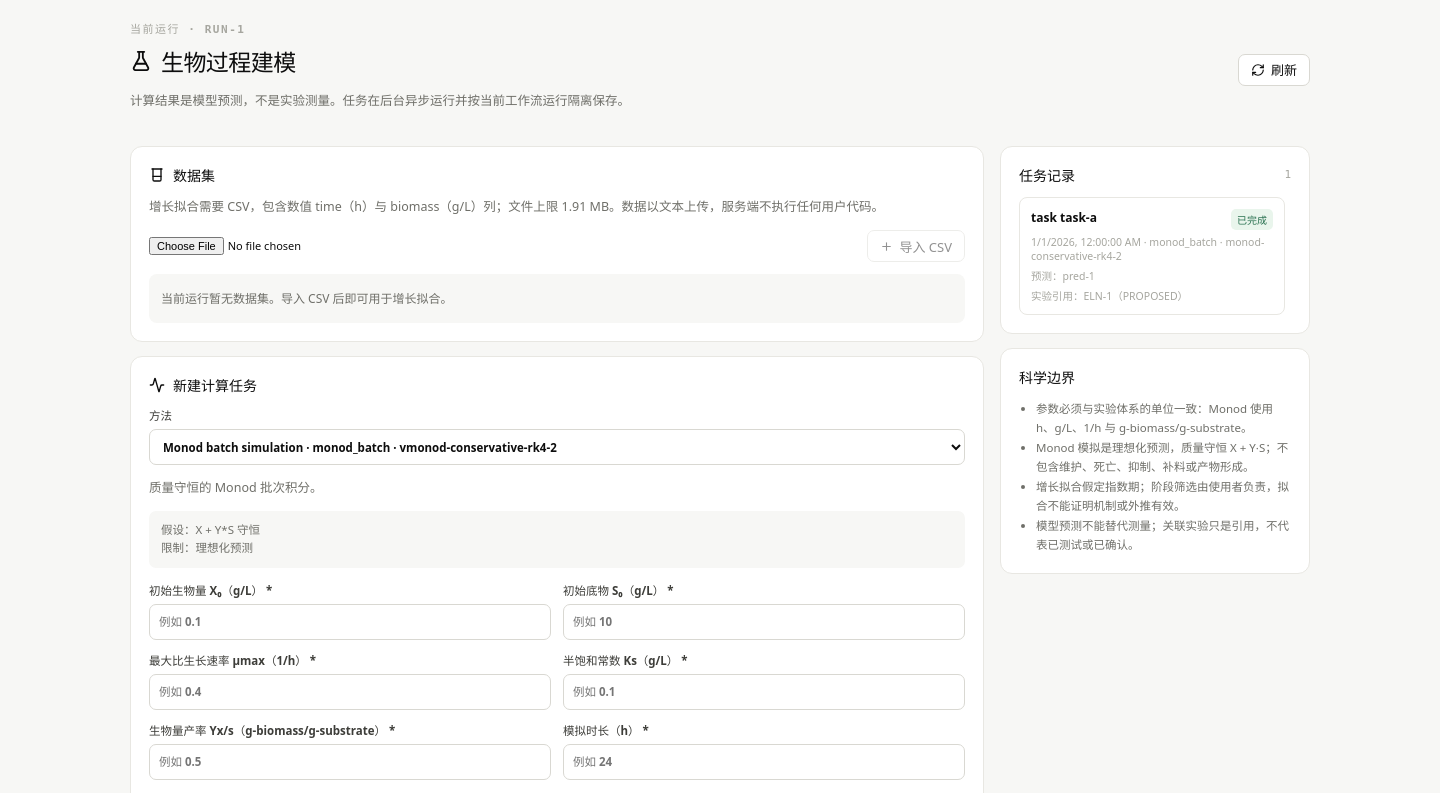
Test case: ModelingWorkspace lifecycle regressions › resets registration, experiment and result when a new task is submitted
Click the button that starts with "task task-a": (1064, 217) [1019, 197, 1285, 315]
(page scrolled)
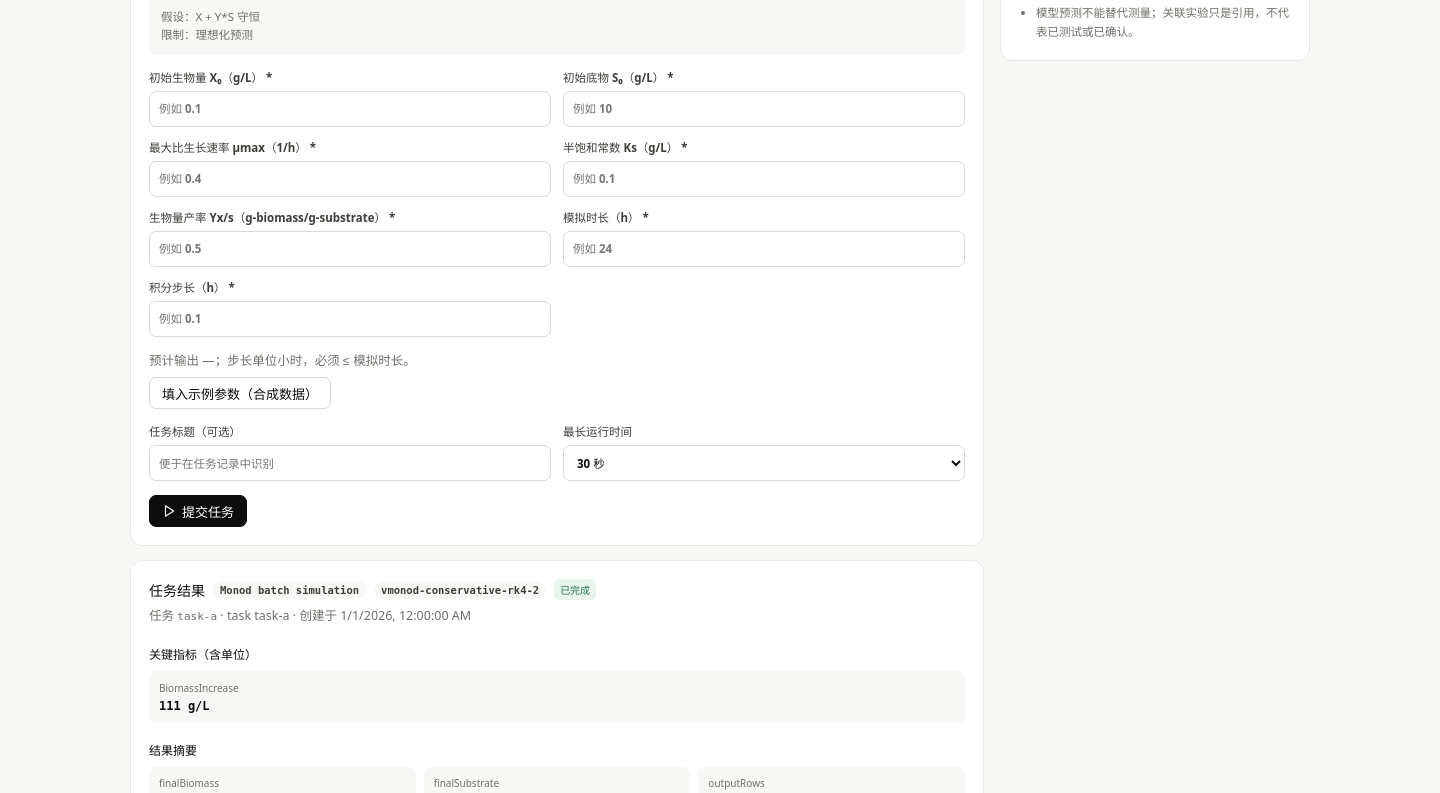
Click the button "填入示例参数（合成数据）": (240, 394) [149, 378, 331, 410]
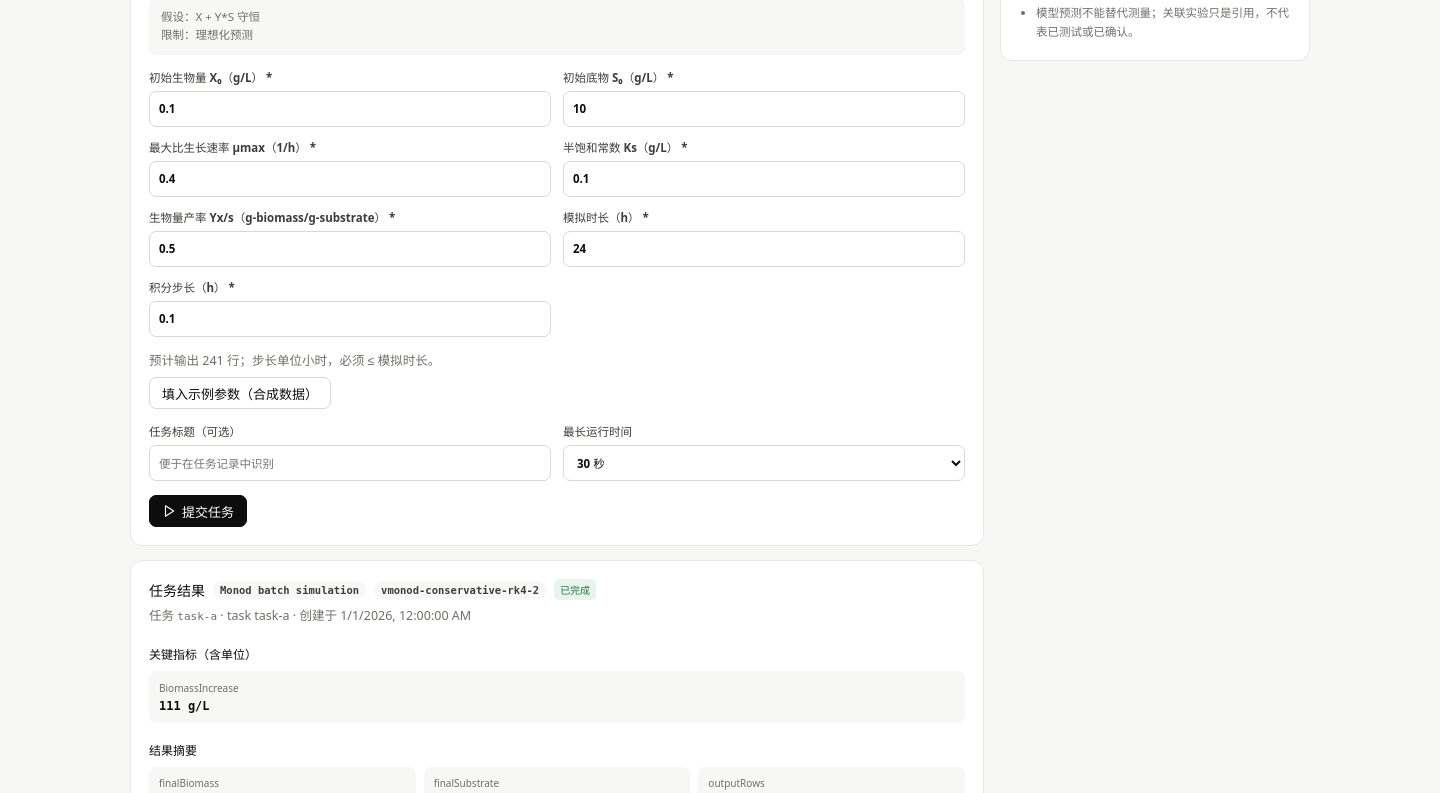
Click the button "提交任务": (198, 512) [149, 496, 247, 528]
(page scrolled)
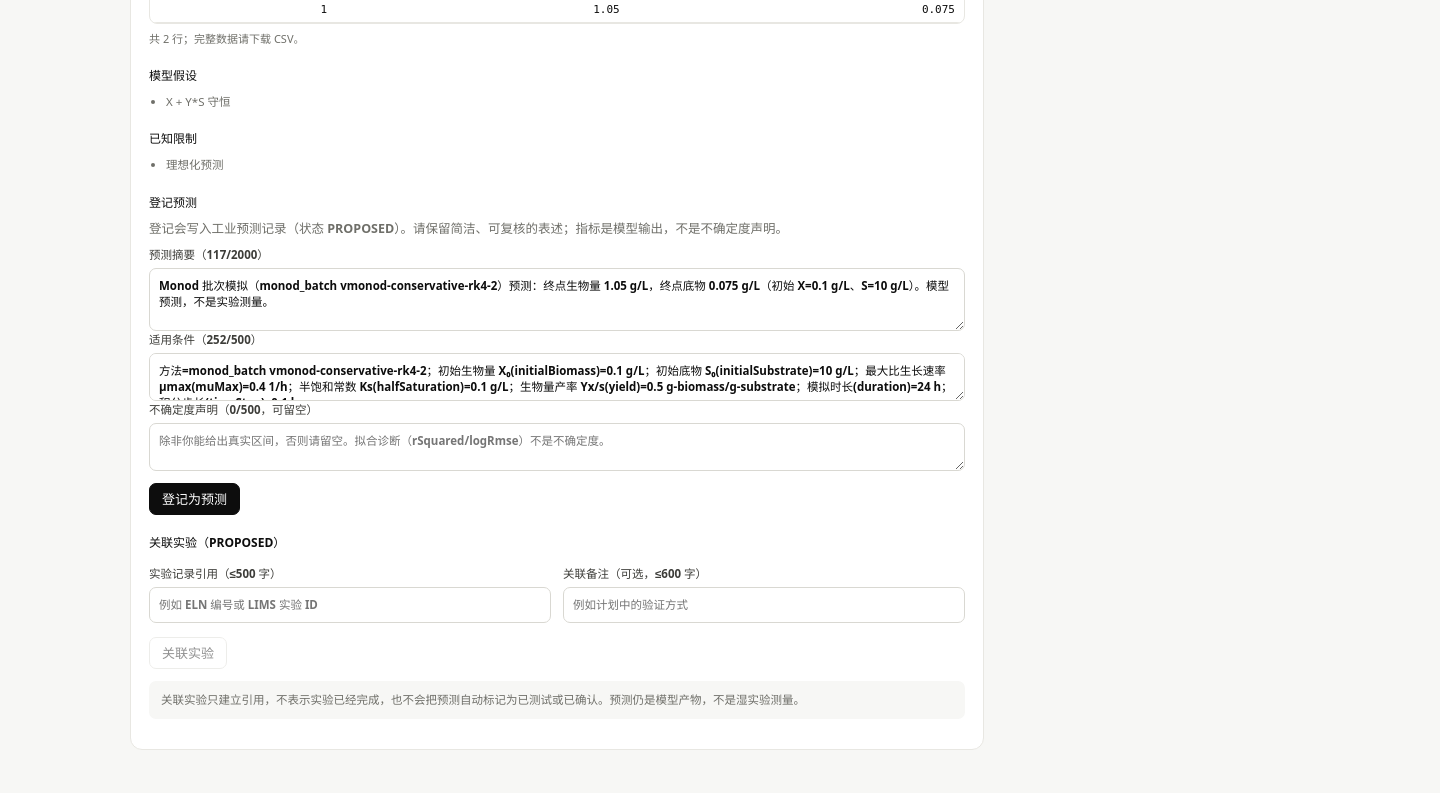
Expected: the element with test id "modeling-result" does not show "pred-1"
Expected: the button "登记为预测" is enabled, [149, 483, 240, 515]
Expected: the field labelled "实验记录引用（≤500 字）" is empty, [149, 587, 551, 623]
